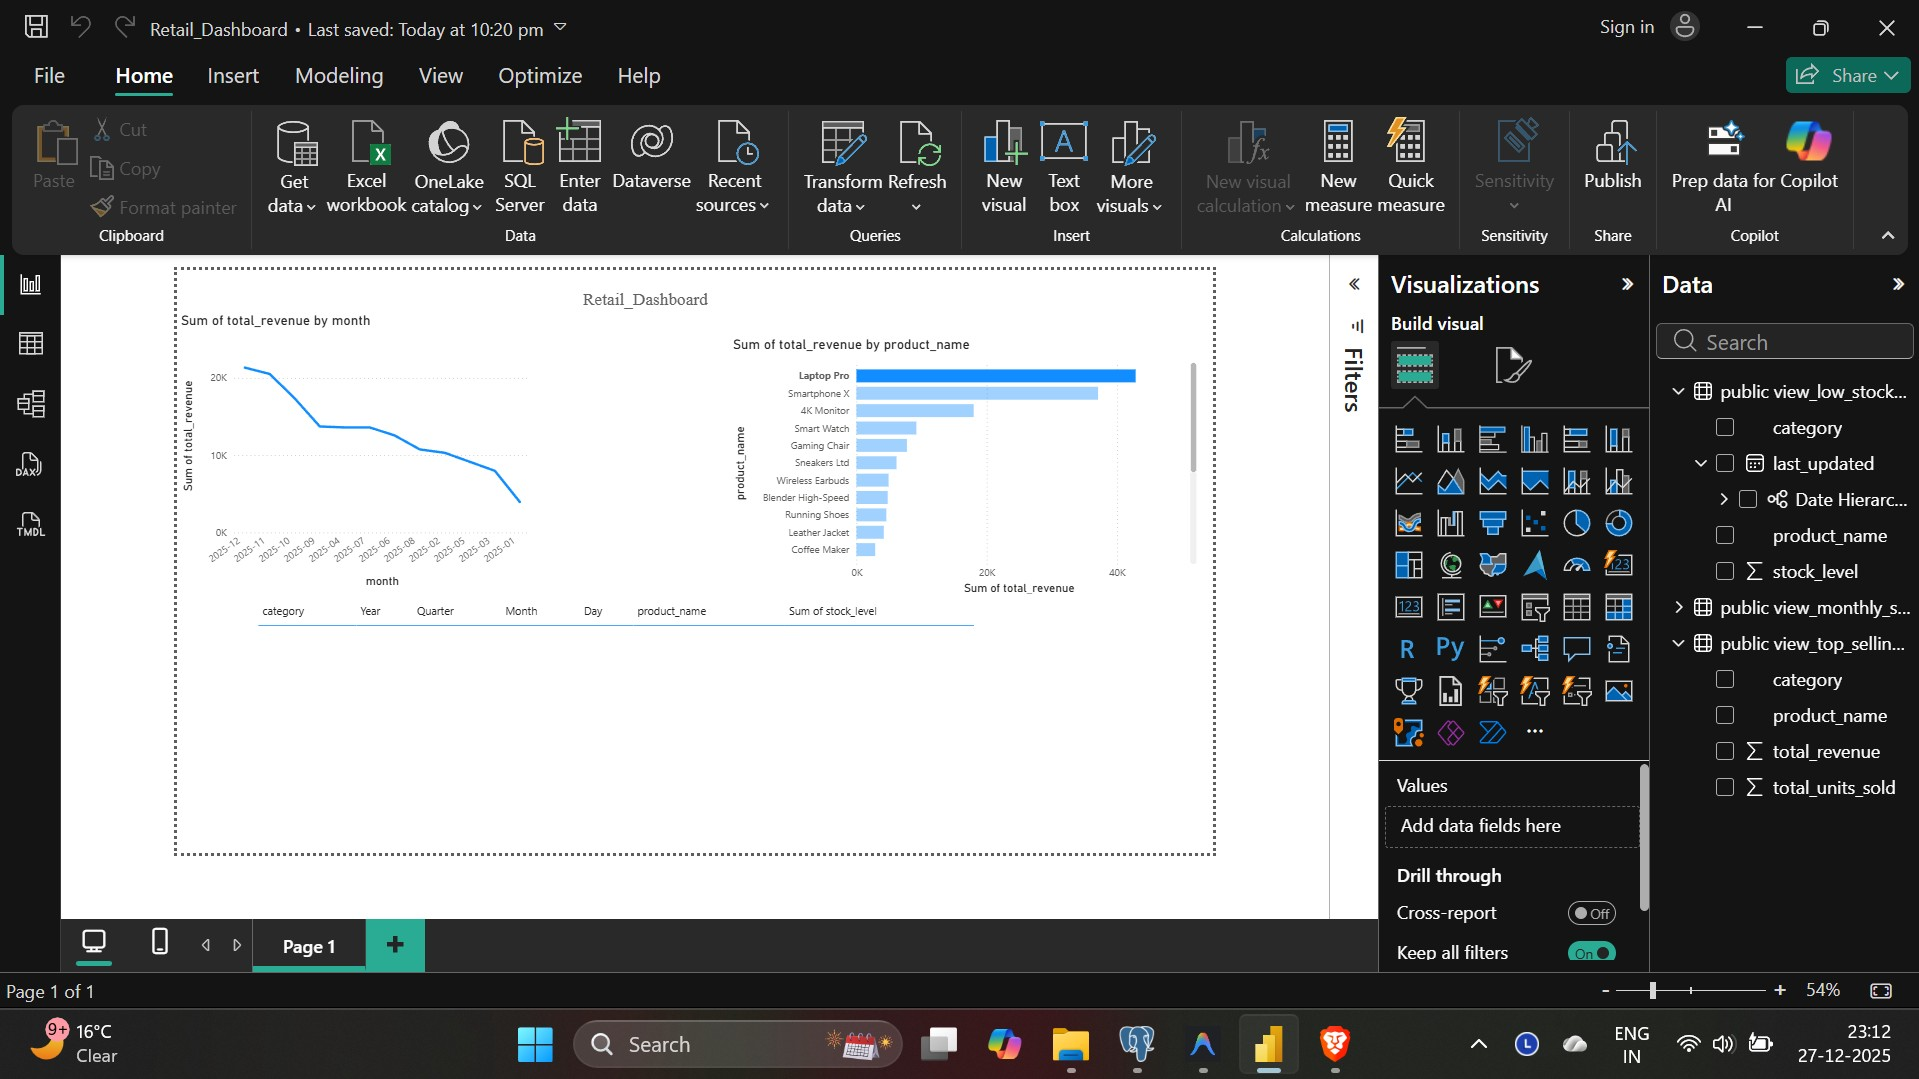

Layout of this report page (visuals, bound fields, positions):
{"tool":"powerbi","page":{"name":"Page 1","canvas":[1280,720],"ordinal":0},"visuals":[{"type":"lineChart","fields":{"Category":["public view_monthly_sales.month"],"Y":["Sum(public view_monthly_sales.total_revenue)"]},"box":[0,51,440.3,343.9],"z":0},{"type":"hundredPercentStackedBarChart","fields":{"Category":["public view_top_selling_products.product_name"],"Y":["Sum(public view_top_selling_products.total_revenue)"]},"box":[752.1,120.9,440.3,315.6],"z":1},{"type":"textbox","box":[497,30.2,255.1,41.6],"z":3},{"type":"tableEx","fields":{"Values":["public view_low_stock_alerts.category","public view_low_stock_alerts.last_updated.Variation.Date Hierarchy.Year","public view_low_stock_alerts.last_updated.Variation.Date Hierarchy.Quarter","public view_low_stock_alerts.last_updated.Variation.Date Hierarchy.Month","public view_low_stock_alerts.last_updated.Variation.Date Hierarchy.Day","public view_low_stock_alerts.product_name","Sum(public view_low_stock_alerts.stock_level)"]},"box":[111.5,404.4,600.9,315.6],"z":4}]}

Visuals, with their boxes on the page's 1280x720 design canvas (x1, y1, x2, y2). These are canvas units, not pixel positions in the 1919x1079 screenshot, which may show the page scaled, cropped or inside an application window:
lineChart - public view_monthly_sales.month x Sum(public view_monthly_sales.total_revenue): (0, 51, 440, 395)
hundredPercentStackedBarChart - public view_top_selling_products.product_name x Sum(public view_top_selling_products.total_revenue): (752, 121, 1192, 436)
textbox: (497, 30, 752, 72)
tableEx - public view_low_stock_alerts.category x public view_low_stock_alerts.last_updated.Variation.Date Hierarchy.Year: (112, 404, 712, 720)
